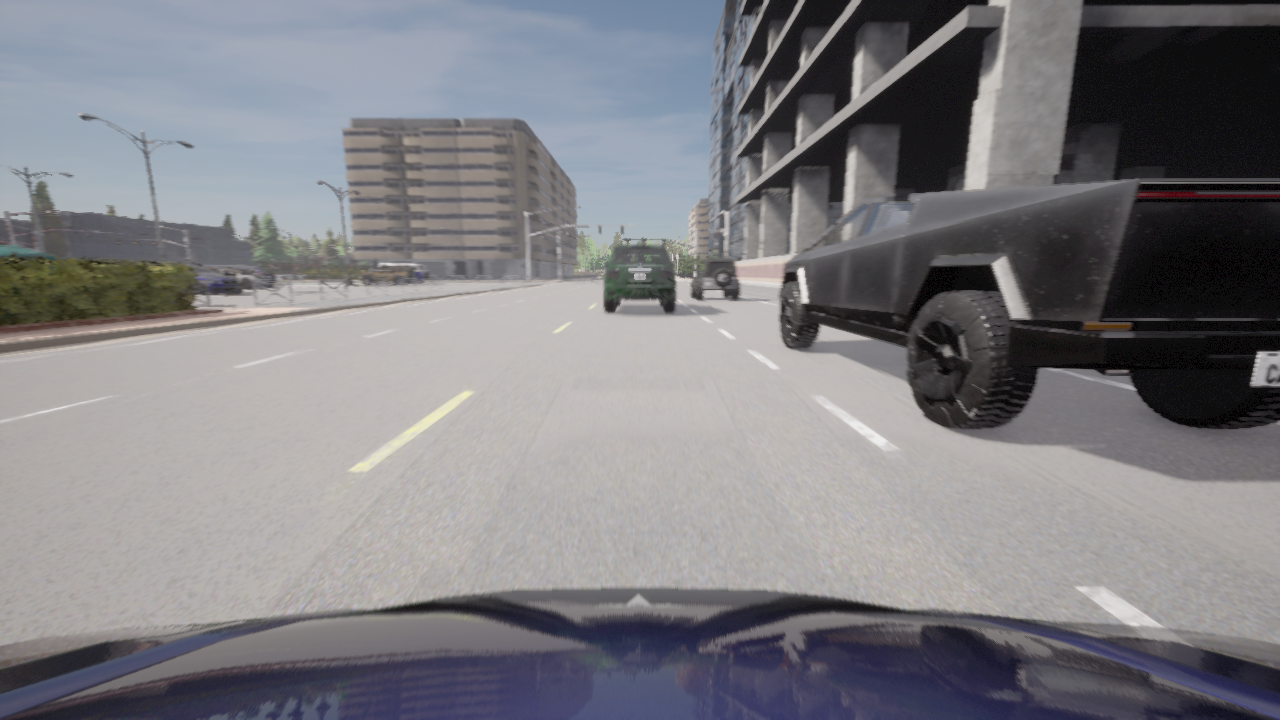cyclist: (0, 588, 1279, 719), (778, 180, 1279, 429), (604, 245, 675, 312), (691, 258, 739, 300), (184, 264, 242, 295), (359, 265, 417, 285), (215, 269, 273, 288), (379, 263, 429, 284), (244, 268, 275, 280), (182, 262, 201, 266), (209, 269, 221, 273)
